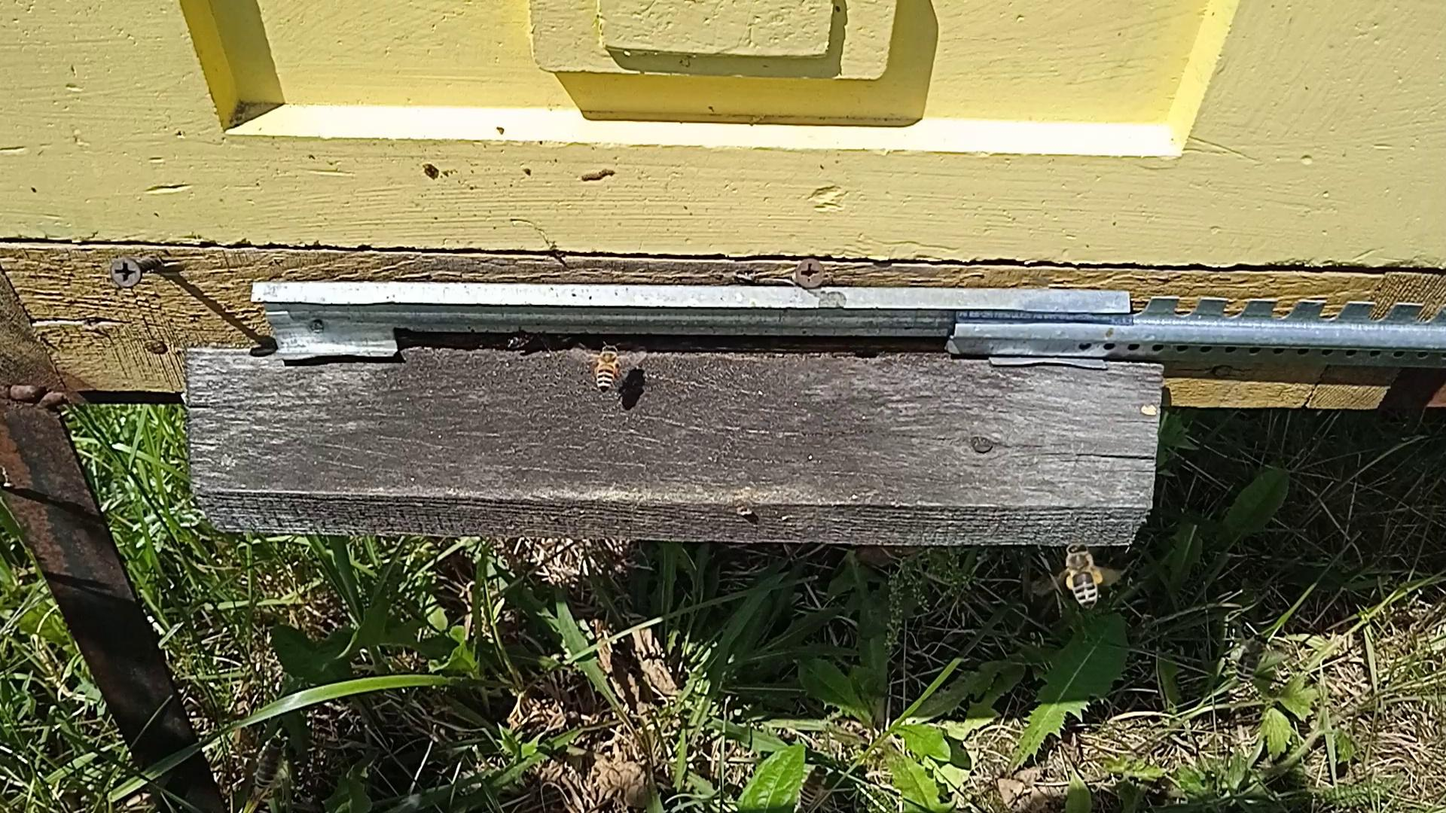worker-bee: (1065, 541, 1103, 610), (1234, 633, 1268, 684), (254, 735, 286, 789), (591, 343, 624, 393), (504, 332, 537, 351)
